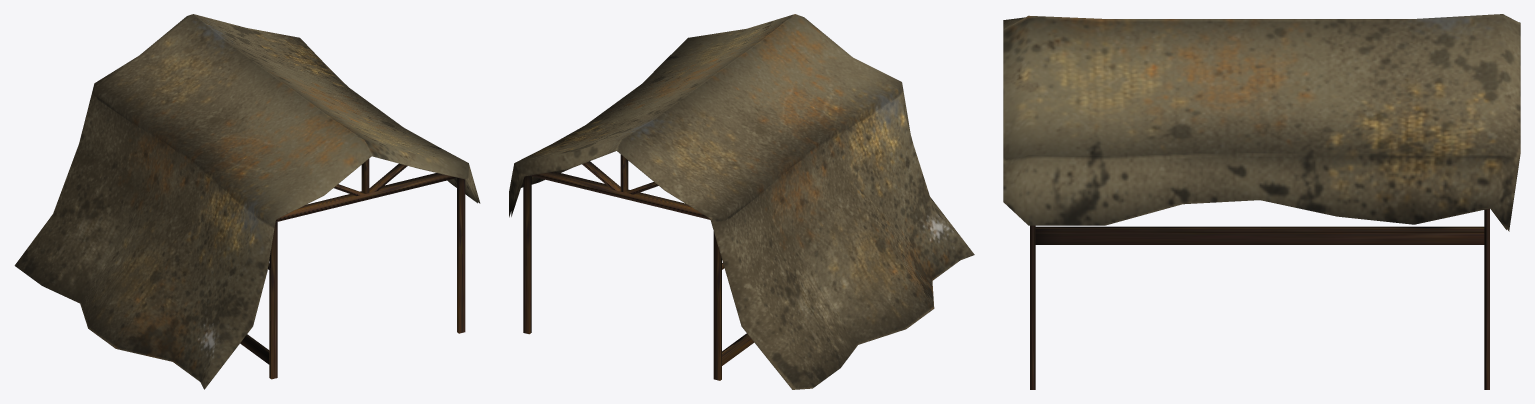
File: Tent1_atlas.fbx
3 views of the same model, side by side, from view 1: azimuth 30°, elevation 25°; view 2: azimuth 150°, elevation 25°; view 3: azimuth 270°, elevation 25° (orthographic). The views are drawn at different scales.
Visible parts, largest first — view 1: polySurface5; view 2: polySurface5; view 3: polySurface5.
Boxes of the visible parts, x1,y1,x2,y2 form: polySurface5: (14, 14, 480, 389); polySurface5: (509, 14, 974, 389); polySurface5: (1003, 14, 1520, 389).
Bounding box in the file's own units: 4.99 × 3.38 × 5.17.
